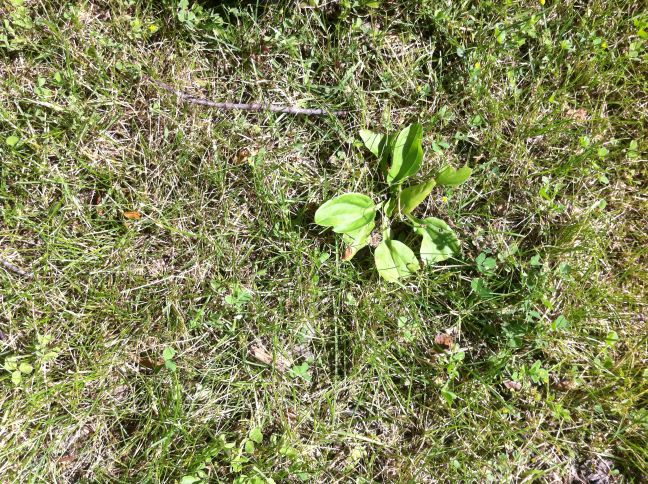weed1: (308, 121, 468, 285)
